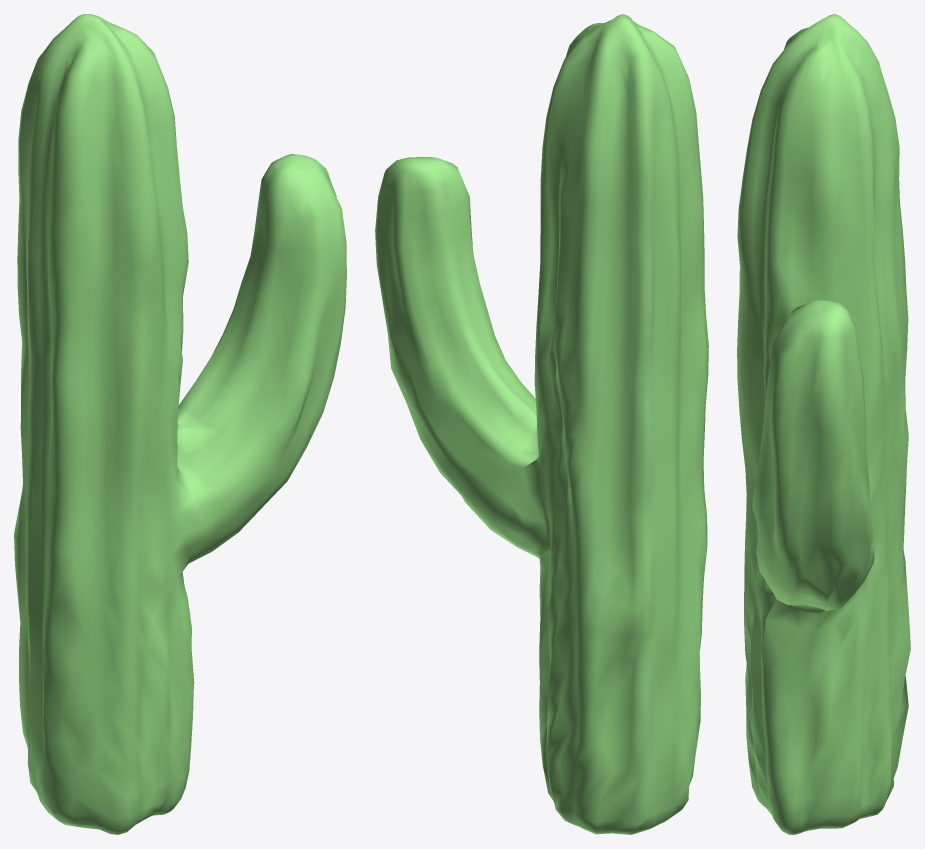
The model's file is cactus03.fbx.
The picture shows the model from 3 angles, left to right: view 1: azimuth 30°, elevation 25°; view 2: azimuth 150°, elevation 25°; view 3: azimuth 270°, elevation 25°; orthographic projection.
Parts seen in each view (by area): view 1: Merged_PM3D_Ring3D1; view 2: Merged_PM3D_Ring3D1; view 3: Merged_PM3D_Ring3D1.
Boxes of the visible parts, x1,y1,x2,y2 form: Merged_PM3D_Ring3D1: [14, 14, 346, 834]; Merged_PM3D_Ring3D1: [375, 14, 708, 834]; Merged_PM3D_Ring3D1: [737, 14, 910, 834].
Size of the model in its own units: 5.05 by 12.6 by 2.51.
